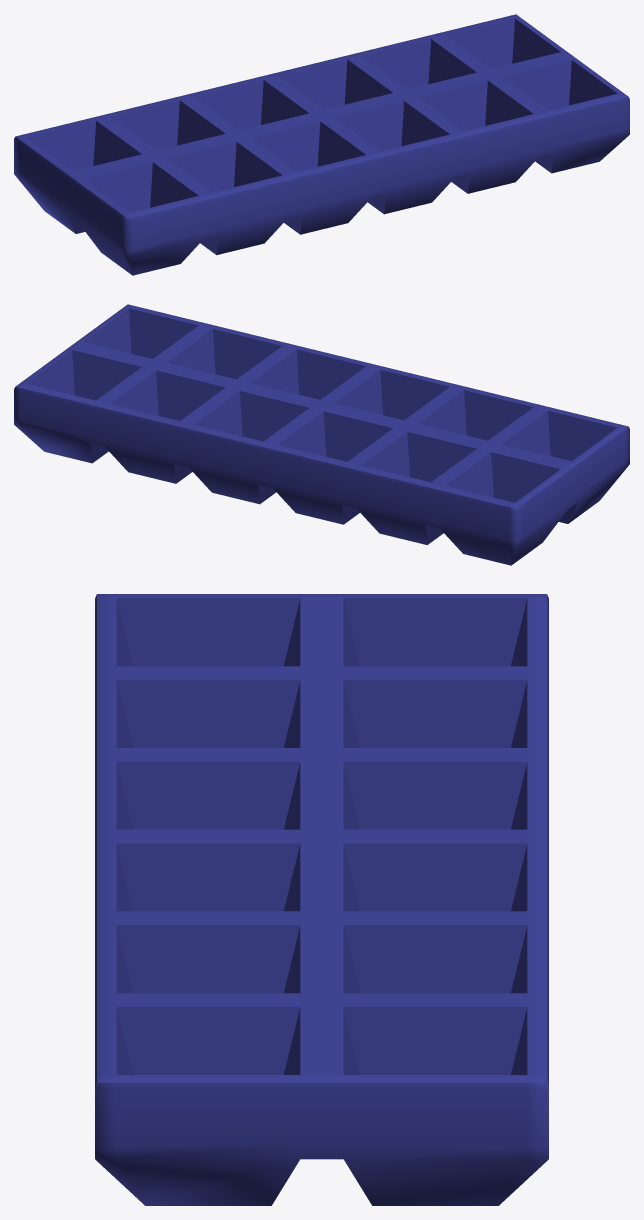
Rendered from IceTray.fbx.
3 views of the same model, one above another, from view 1: azimuth 30°, elevation 25°; view 2: azimuth 150°, elevation 25°; view 3: azimuth 270°, elevation 25° (orthographic). The views are drawn at different scales.
Parts seen in each view (by area): view 1: Box001; view 2: Box001; view 3: Box001.
Part boxes in pixels (x1=…): Box001: x1=14, y1=14, x2=629, y2=275; Box001: x1=14, y1=304, x2=629, y2=565; Box001: x1=95, y1=594, x2=548, y2=1205.
Bounding box in the file's own units: 71.82 × 9.67 × 28.1.
